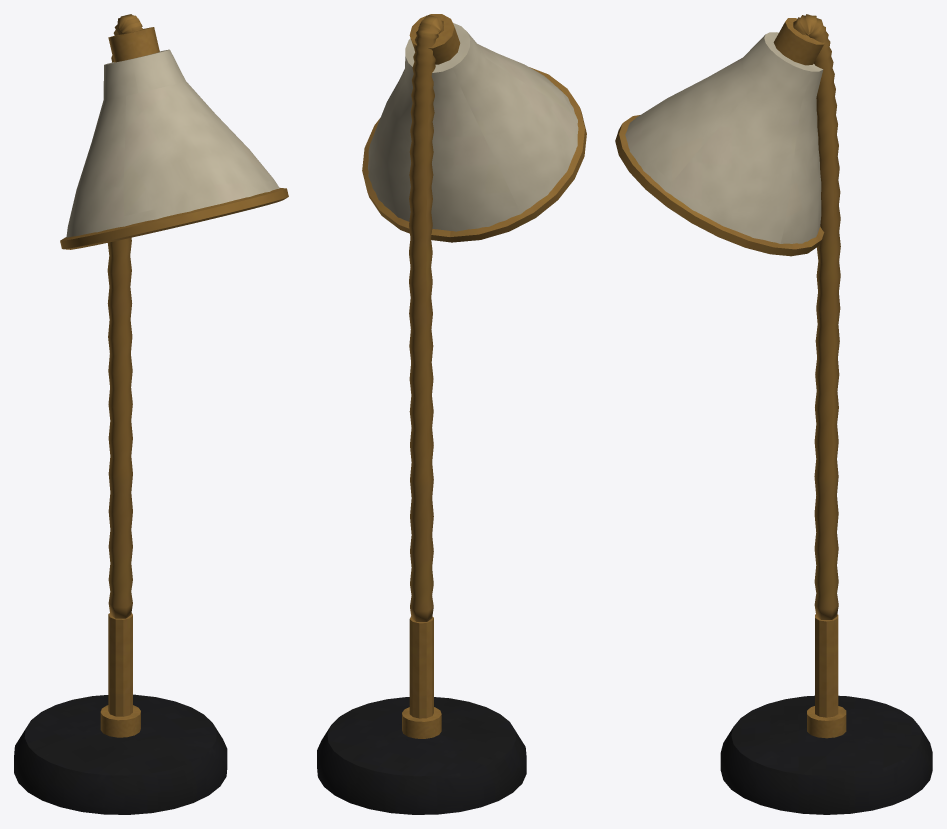
Rendered from amp-lamp.glb.
The picture shows the model from 3 angles, left to right: view 1: azimuth 30°, elevation 25°; view 2: azimuth 150°, elevation 25°; view 3: azimuth 270°, elevation 25°; orthographic projection.
Parts seen in each view (by area): view 1: lamp_n47; view 2: lamp_n47; view 3: lamp_n47.
Boxes of the visible parts, x1,y1,x2,y2 form: lamp_n47: (14, 14, 288, 814); lamp_n47: (317, 14, 586, 814); lamp_n47: (615, 14, 932, 814).
Size of the model in its own units: 0.109 by 0.392 by 0.1497.
2 materials, 1 textured.
